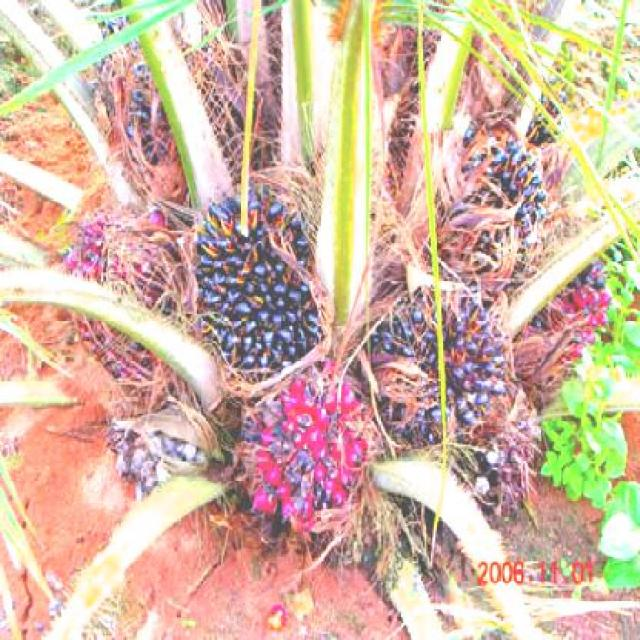palm-oil: (176, 193, 337, 368), (367, 277, 504, 447), (239, 367, 376, 530), (70, 213, 199, 386), (442, 117, 557, 285), (533, 239, 619, 397)
